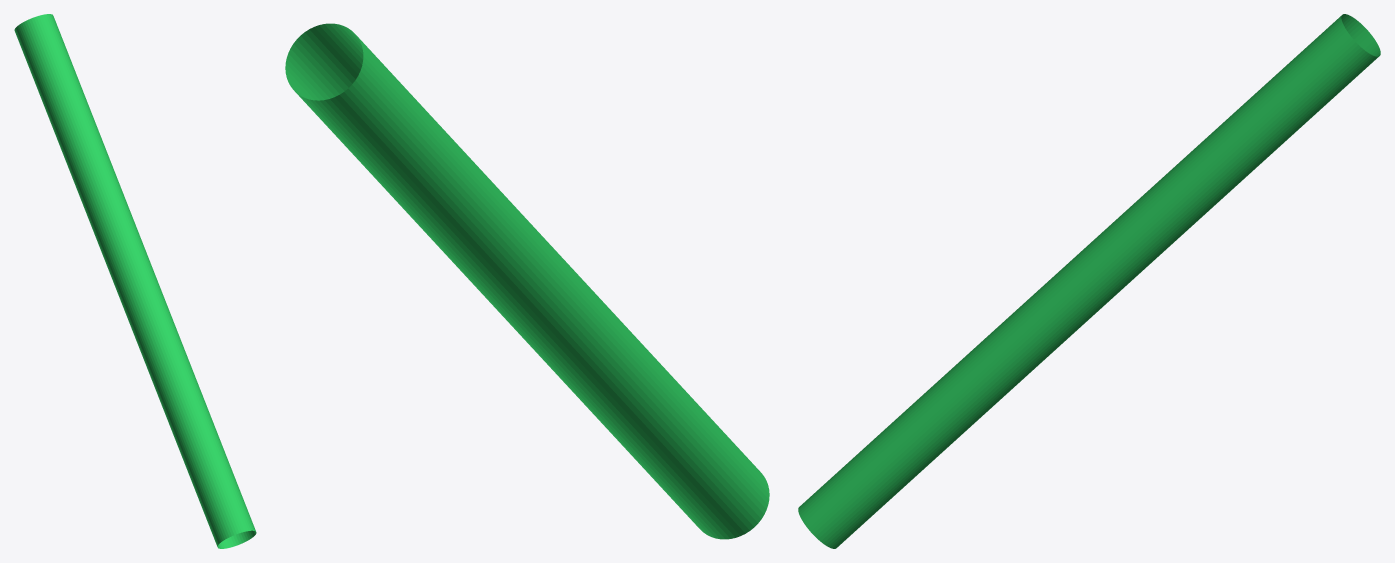
3 renders of one model, left to right at view 1: azimuth 30°, elevation 25°; view 2: azimuth 150°, elevation 25°; view 3: azimuth 270°, elevation 25°, orthographic. The views are drawn at different scales.
Parts seen in each view (by area): view 1: pipe_1; view 2: pipe_1; view 3: pipe_1.
Part boxes in pixels (x1,y1,x2,y2): pipe_1: [14, 14, 256, 548]; pipe_1: [285, 23, 769, 539]; pipe_1: [798, 14, 1380, 548].
Bounding box in the file's own units: 0.358 × 3.74 × 3.74.
